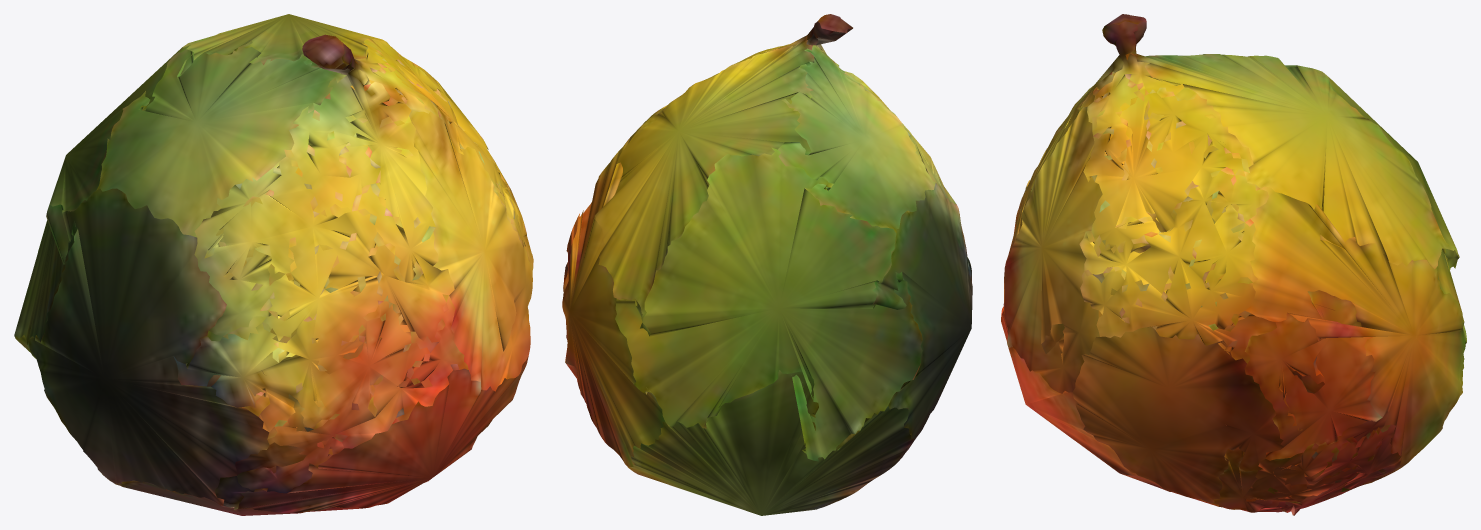
Rendered from 5_pear.glb.
3 views of the same model, side by side, from view 1: azimuth 30°, elevation 25°; view 2: azimuth 150°, elevation 25°; view 3: azimuth 270°, elevation 25° (orthographic). The views are drawn at different scales.
Parts seen in each view (by area): view 1: 5_pear; view 2: 5_pear; view 3: 5_pear.
Part boxes in pixels (left/top/right/bottom): 5_pear: left=14, top=14, right=533, bottom=515; 5_pear: left=562, top=14, right=972, bottom=515; 5_pear: left=1001, top=14, right=1466, bottom=515.
Size of the model in its own units: 0.1798 by 0.2052 by 0.1876.
1 material, 1 textured.
